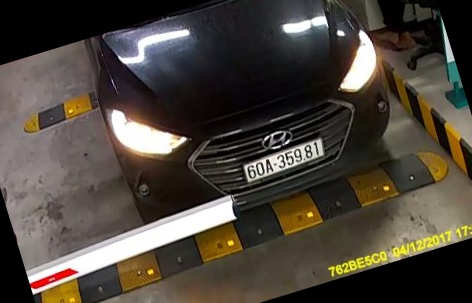plate: (239, 140, 331, 180)
